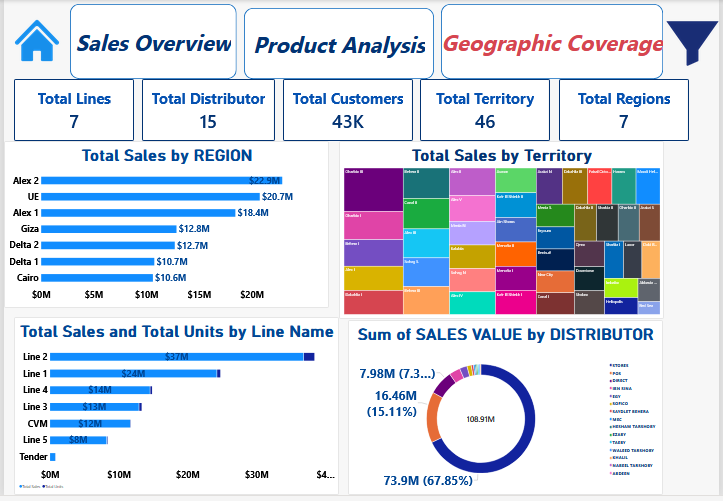

What the dashboard file says about the page in this screenshot:
{"tool":"powerbi","page":{"name":"Geographic Coverage","canvas":[2600,1800],"ordinal":3},"visuals":[{"type":"cardVisual","fields":{"Data":["All Measures.Total Lines"]},"box":[35.4,287,435.8,226.8],"z":0},{"type":"cardVisual","fields":{"Data":["All Measures.Total Distributor"]},"box":[503.1,287,481.9,226.8],"z":1000},{"type":"cardVisual","fields":{"Data":["All Measures.Total Customers"]},"box":[1013.4,287,471.3,226.8],"z":2000},{"type":"cardVisual","fields":{"Data":["All Measures.Total Territory"]},"box":[1513,287,471.3,226.8],"z":3000},{"type":"cardVisual","fields":{"Data":["All Measures.Total Regions"]},"box":[2019.7,287,471.3,226.8],"z":4000},{"type":"shape","box":[240.9,14.2,605.9,272.8],"z":5000},{"type":"image","box":[0,14.2,240.9,265.7],"z":6000},{"type":"shape","box":[871.7,28.3,690.9,258.7],"z":7000},{"type":"shape","box":[1587.4,14.2,807.9,272.8],"z":8000},{"type":"barChart","fields":{"Category":["EGPI.REGION"],"Y":["All Measures.Total Sales"]},"box":[0,513.8,1183.5,605.9],"z":9000},{"type":"treemap","fields":{"Group":["EIPICO.Territory"],"Values":["All Measures.Total Sales"]},"box":[1218.9,513.8,1183.5,648.4],"z":10000},{"type":"barChart","fields":{"Category":["EIPICO.Line Name"],"Y":["All Measures.Total Sales","All Measures.Total Units"]},"box":[35.4,1151.6,1183.5,648.4],"z":11000},{"type":"donutChart","fields":{"Category":["EIPICO.DISTRIBUTOR"],"Y":["Sum(EIPICO.SALES VALUE)"]},"box":[1250.8,1162.2,1144.5,637.8],"z":12000},{"type":"image","box":[2402.4,28.3,198.4,258.7],"z":14000}]}

Visuals, with their boxes in screenshot pixels (x1, y1, x2, y2), scaled from the page's 2600x1800 canvas onto the 723x501 screenshot:
cardVisual - All Measures.Total Lines: bbox(10, 80, 131, 143)
cardVisual - All Measures.Total Distributor: bbox(140, 80, 274, 143)
cardVisual - All Measures.Total Customers: bbox(282, 80, 413, 143)
cardVisual - All Measures.Total Territory: bbox(421, 80, 552, 143)
cardVisual - All Measures.Total Regions: bbox(562, 80, 693, 143)
shape: bbox(67, 4, 235, 80)
image: bbox(0, 4, 67, 78)
shape: bbox(242, 8, 435, 80)
shape: bbox(441, 4, 666, 80)
barChart - EGPI.REGION x All Measures.Total Sales: bbox(0, 143, 329, 312)
treemap - EIPICO.Territory x All Measures.Total Sales: bbox(339, 143, 668, 323)
barChart - EIPICO.Line Name x All Measures.Total Sales: bbox(10, 321, 339, 500)
donutChart - EIPICO.DISTRIBUTOR x Sum(EIPICO.SALES VALUE): bbox(348, 323, 666, 500)
image: bbox(668, 8, 722, 80)
